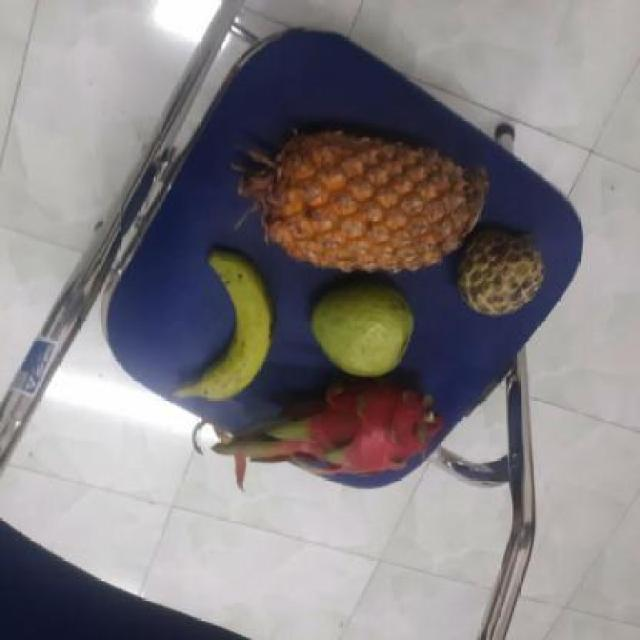banana: (178, 254, 274, 401)
dragon fruit: (248, 370, 444, 482)
guava: (306, 282, 419, 380)
pineapple: (259, 133, 483, 272)
sugar apple: (450, 228, 544, 315)
